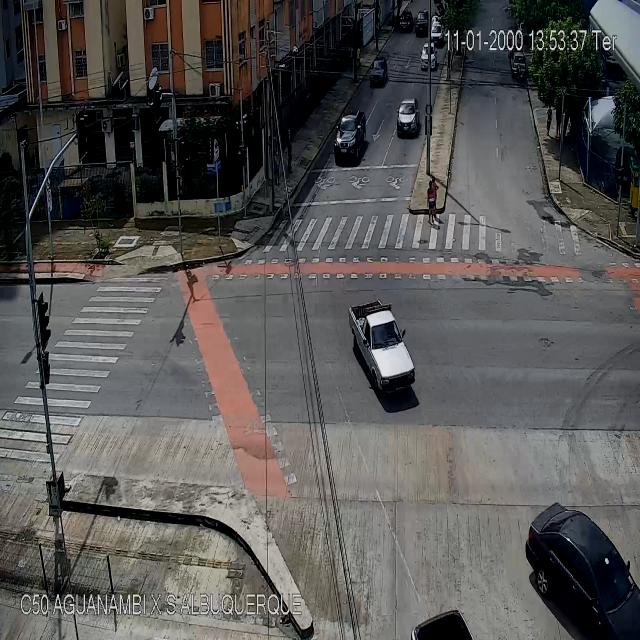Car: (525, 502, 638, 640), (350, 301, 417, 392), (332, 110, 365, 161), (397, 100, 419, 132), (420, 42, 437, 71), (371, 59, 388, 84), (416, 10, 430, 36), (511, 52, 526, 76), (430, 21, 444, 46), (397, 11, 411, 30)
Motorcycle: (516, 64, 522, 83)
